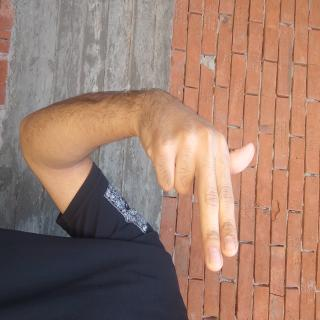GHAYN: (62, 75, 203, 248)
